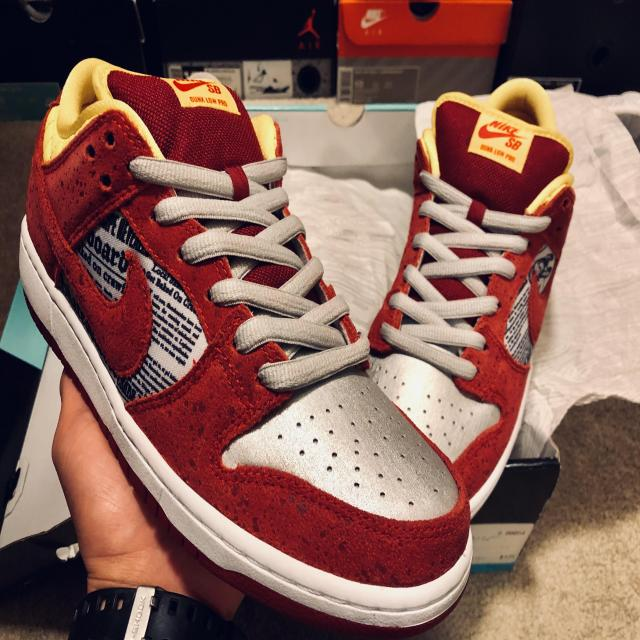shoe: (14, 57, 473, 640), (361, 72, 577, 534)
